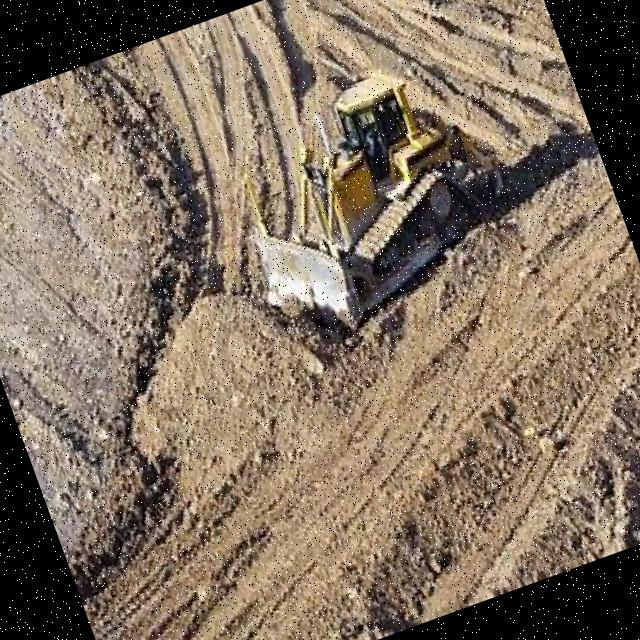Bulldozer: (202, 26, 550, 378)
